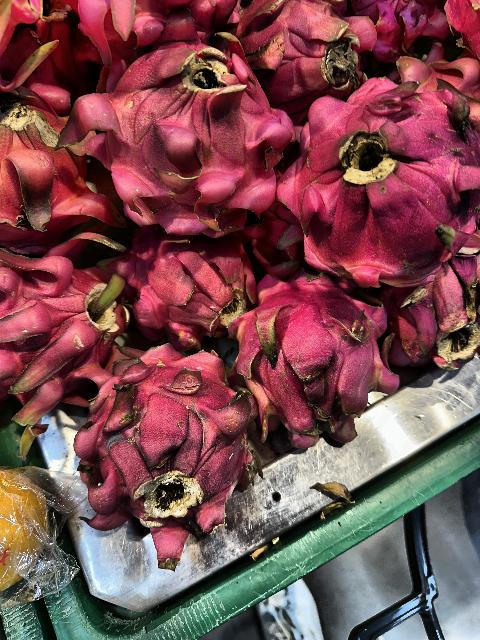buah-naga-matang: (87, 337, 264, 555), (84, 46, 286, 232), (290, 80, 480, 274), (227, 274, 394, 446), (0, 242, 128, 408), (0, 93, 116, 249), (118, 234, 260, 334), (238, 0, 364, 94)
